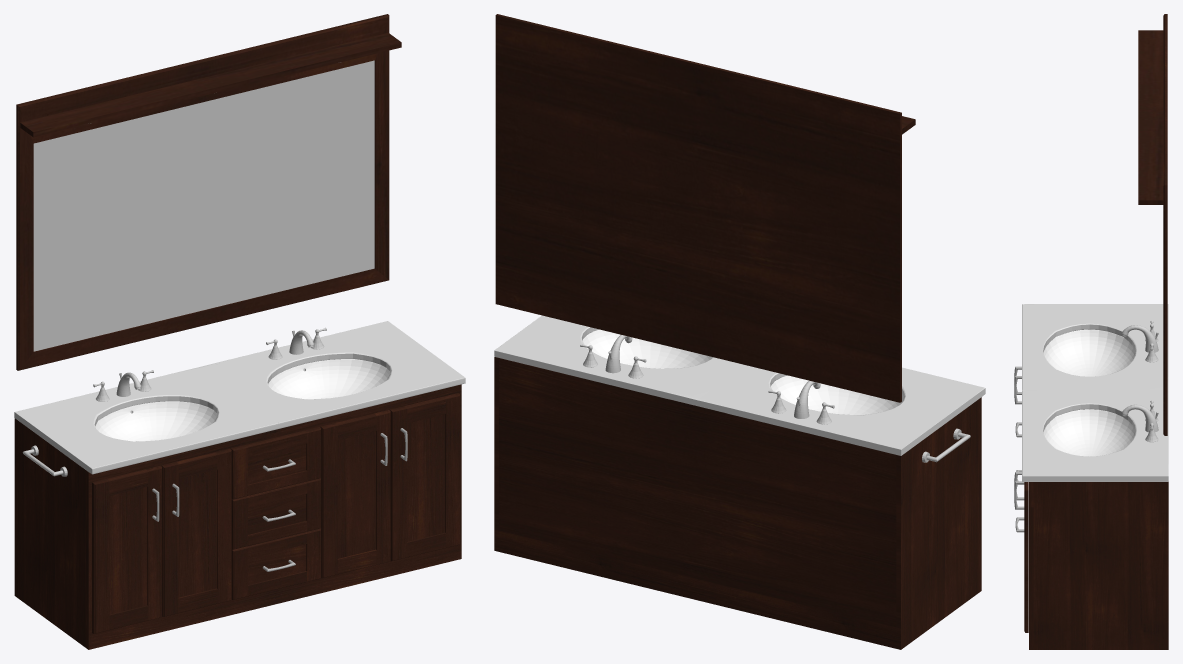
The model's file is sweethome3d-scopia-double-vanity.glb.
3 renders of one model, left to right at view 1: azimuth 30°, elevation 25°; view 2: azimuth 150°, elevation 25°; view 3: azimuth 270°, elevation 25°, orthographic. The views are drawn at different scales.
Parts seen in each view (by area): view 1: sweethome3d_window_mirror.001_Plane.000_mirror, mirror_Plane.008_dark_wood_dark_wood.jpg, marble_Circle_marble, vanitybase_Cube.001_dark_wood_dark_wood.jpg, righdoor_righside_Plane.019_dark_wood_dark_wood.jpg, leftdoor_leftside_Plane.014_dark_wood_dark_wood.jpg, leftdoor_righside_Plane.018_dark_wood_dark_wood.jpg, rightdoor_leftsid_Plane.013_dark_wood_dark_wood.jpg, woodtape_Cube.002_dark_wood_dark_wood.jpg, drawer1_Plane.015_dark_wood_dark_wood.jpg, drawer2_Plane.016_dark_wood_dark_wood.jpg, drawer3_Plane.017_dark_wood_dark_wood.jpg (+2 smaller); view 2: mirror_Plane.008_dark_wood_dark_wood.jpg, vanitybase_Cube.001_dark_wood_dark_wood.jpg, marble_Circle_marble, sink_Sphere_white_ceramic, sink2_Sphere.005_white_ceramic, woodtape_Cube.002_dark_wood_dark_wood.jpg; view 3: vanitybase_Cube.001_dark_wood_dark_wood.jpg, marble_Circle_marble, mirror_Plane.008_dark_wood_dark_wood.jpg, sink_Sphere_white_ceramic, sink2_Sphere.005_white_ceramic, woodtape_Cube.002_dark_wood_dark_wood.jpg, righdoor_righside_Plane.019_dark_wood_dark_wood.jpg, simpletap2_Circle.006_chrome, simpletap_Circle.001_chrome.
Boxes of the visible parts, left/top/right/bottom form: sweethome3d_window_mirror.001_Plane.000_mirror: left=33, top=60, right=374, bottom=351; mirror_Plane.008_dark_wood_dark_wood.jpg: left=16, top=14, right=401, bottom=370; marble_Circle_marble: left=14, top=321, right=465, bottom=474; vanitybase_Cube.001_dark_wood_dark_wood.jpg: left=14, top=418, right=85, bottom=647; righdoor_righside_Plane.019_dark_wood_dark_wood.jpg: left=390, top=393, right=460, bottom=561; leftdoor_leftside_Plane.014_dark_wood_dark_wood.jpg: left=92, top=465, right=162, bottom=633; leftdoor_righside_Plane.018_dark_wood_dark_wood.jpg: left=320, top=410, right=390, bottom=578; rightdoor_leftsid_Plane.013_dark_wood_dark_wood.jpg: left=161, top=448, right=231, bottom=616; woodtape_Cube.002_dark_wood_dark_wood.jpg: left=86, top=384, right=461, bottom=649; drawer1_Plane.015_dark_wood_dark_wood.jpg: left=231, top=427, right=321, bottom=499; drawer2_Plane.016_dark_wood_dark_wood.jpg: left=231, top=478, right=321, bottom=549; drawer3_Plane.017_dark_wood_dark_wood.jpg: left=231, top=528, right=321, bottom=599; mirror_Plane.008_dark_wood_dark_wood.jpg: left=495, top=14, right=915, bottom=402; vanitybase_Cube.001_dark_wood_dark_wood.jpg: left=494, top=357, right=978, bottom=649; marble_Circle_marble: left=494, top=315, right=985, bottom=455; sink_Sphere_white_ceramic: left=771, top=375, right=903, bottom=414; sink2_Sphere.005_white_ceramic: left=582, top=329, right=712, bottom=368; woodtape_Cube.002_dark_wood_dark_wood.jpg: left=723, top=397, right=981, bottom=592; vanitybase_Cube.001_dark_wood_dark_wood.jpg: left=1033, top=482, right=1168, bottom=649; marble_Circle_marble: left=1022, top=304, right=1168, bottom=481; mirror_Plane.008_dark_wood_dark_wood.jpg: left=1138, top=14, right=1167, bottom=435; sink_Sphere_white_ceramic: left=1043, top=329, right=1135, bottom=376; sink2_Sphere.005_white_ceramic: left=1043, top=409, right=1135, bottom=456; woodtape_Cube.002_dark_wood_dark_wood.jpg: left=1029, top=482, right=1033, bottom=649; righdoor_righside_Plane.019_dark_wood_dark_wood.jpg: left=1024, top=482, right=1028, bottom=632; simpletap2_Circle.006_chrome: left=1122, top=404, right=1158, bottom=432; simpletap_Circle.001_chrome: left=1122, top=325, right=1158, bottom=352.
Size of the model in its own units: 185 by 225 by 68.
10 materials, 1 textured.
